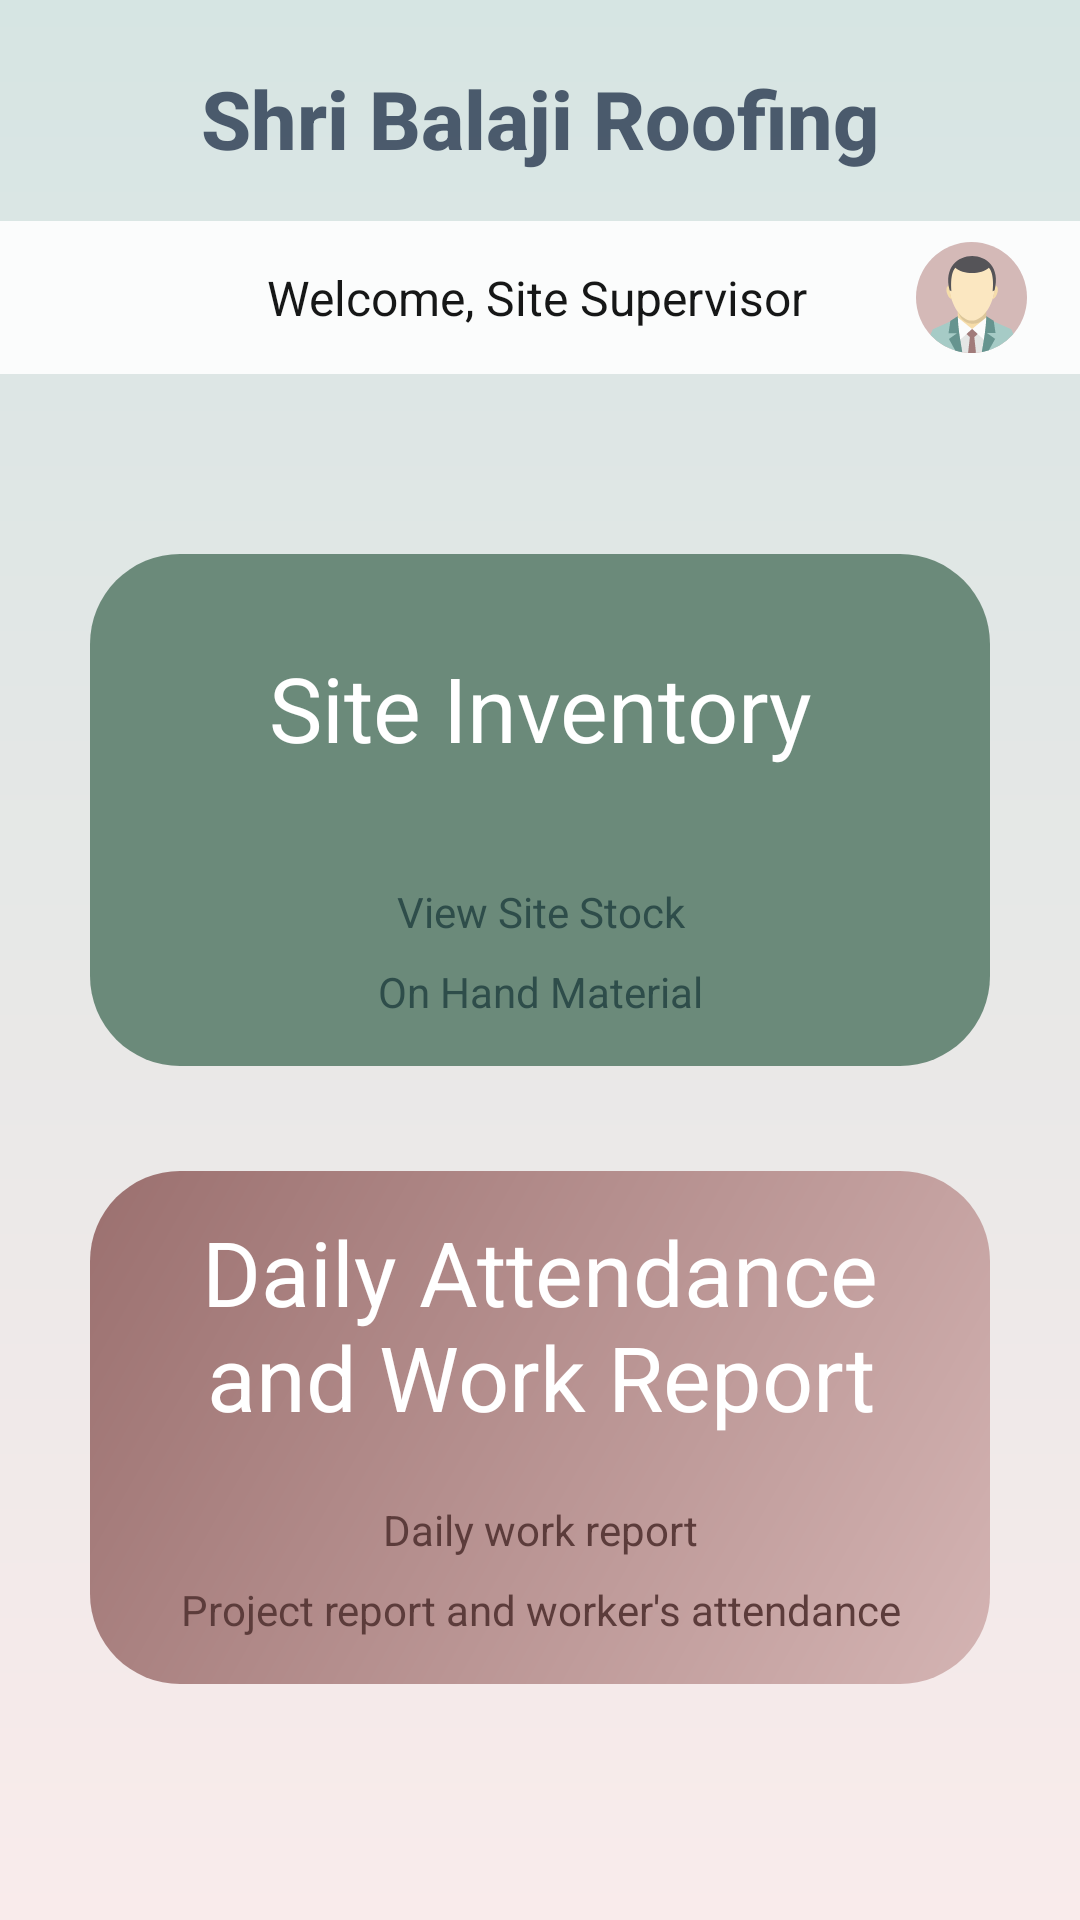

Where icons sit on this 1080px x 1920px app screen, as (x1, y1, x2, y2):
profile: (916, 242, 1027, 353)
